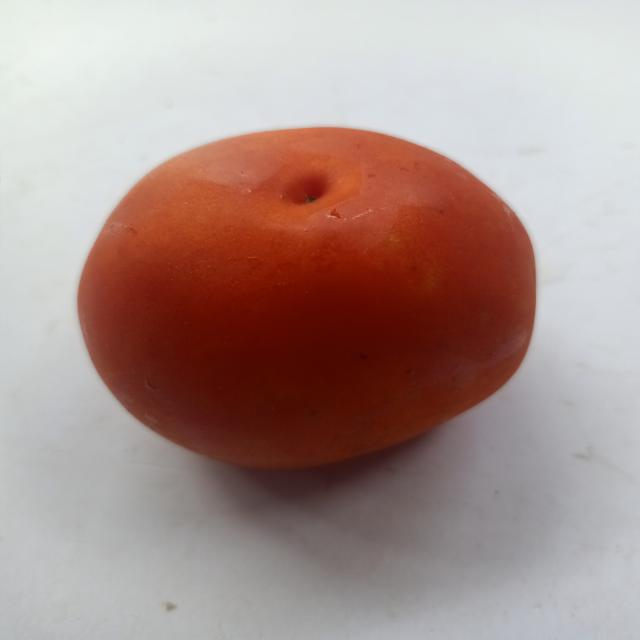Tomato: (56, 101, 582, 508)
